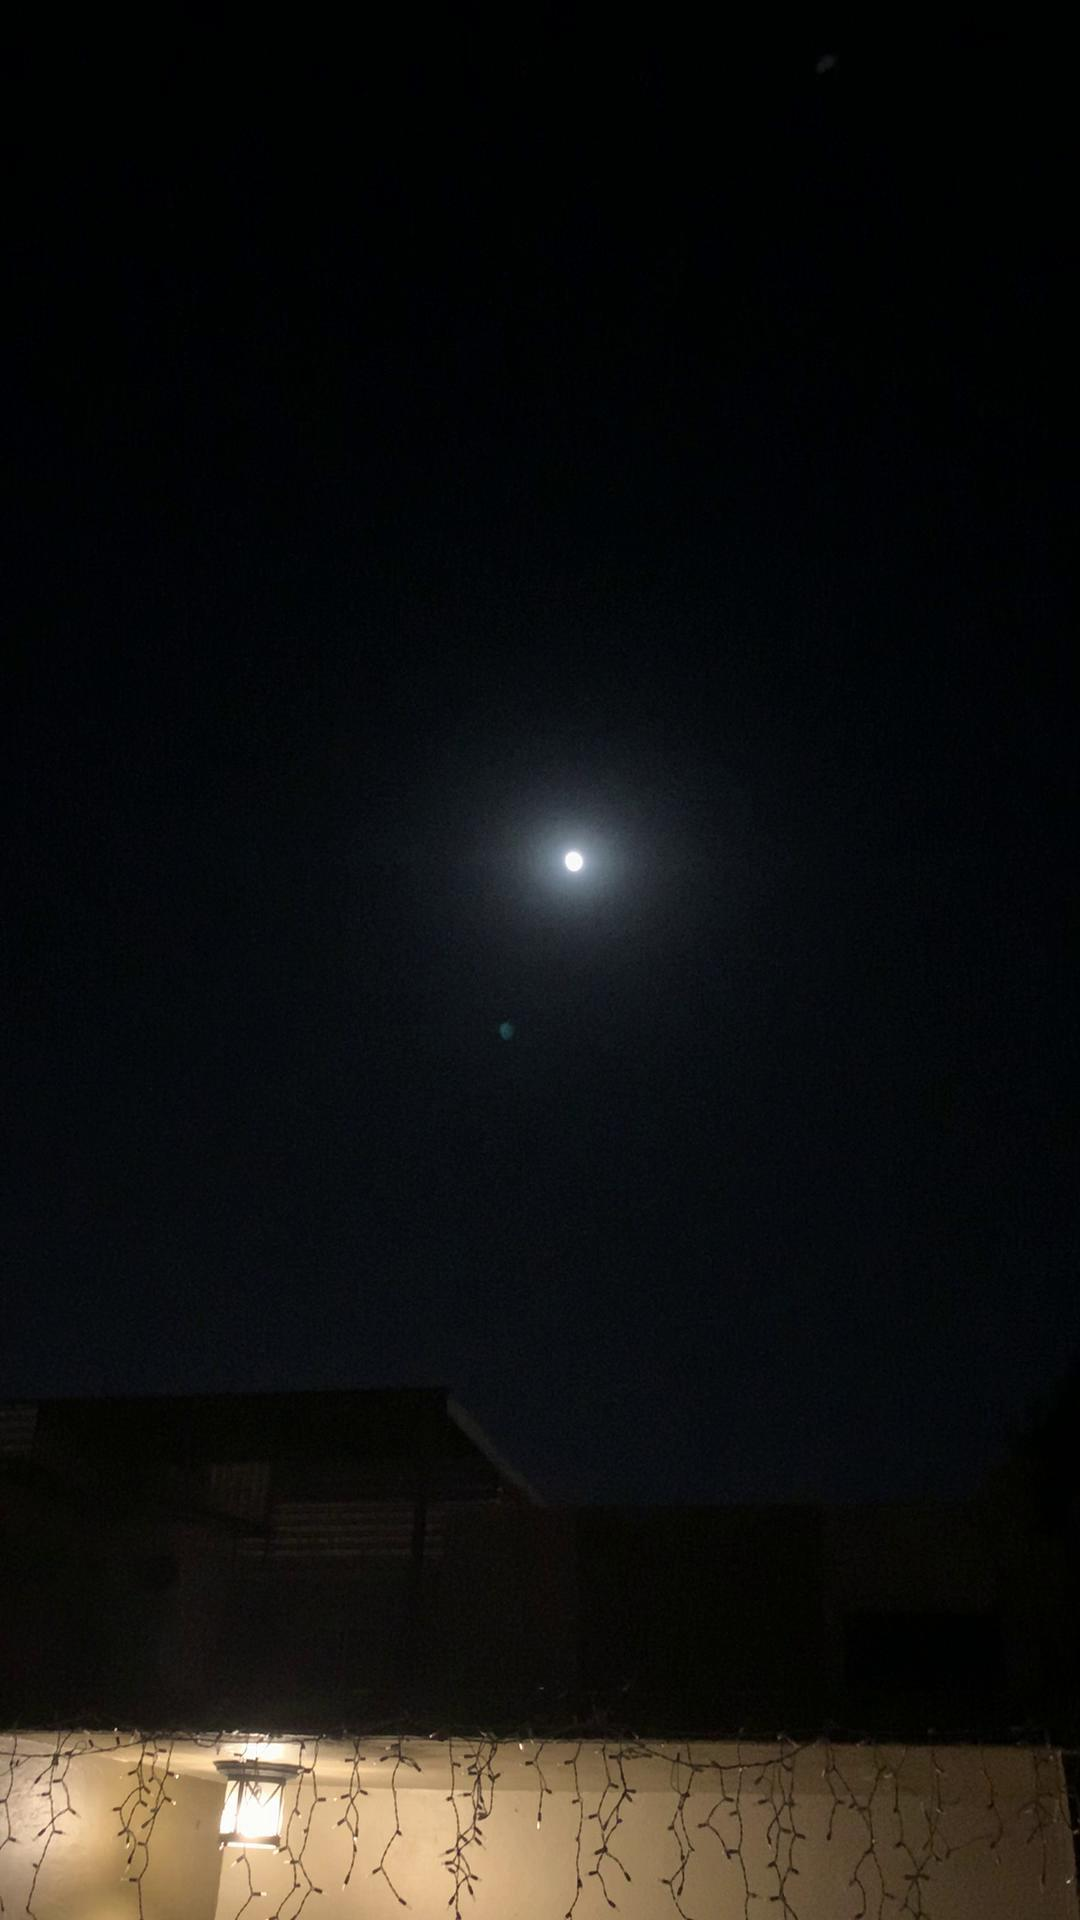moon: (533, 815, 620, 911)
